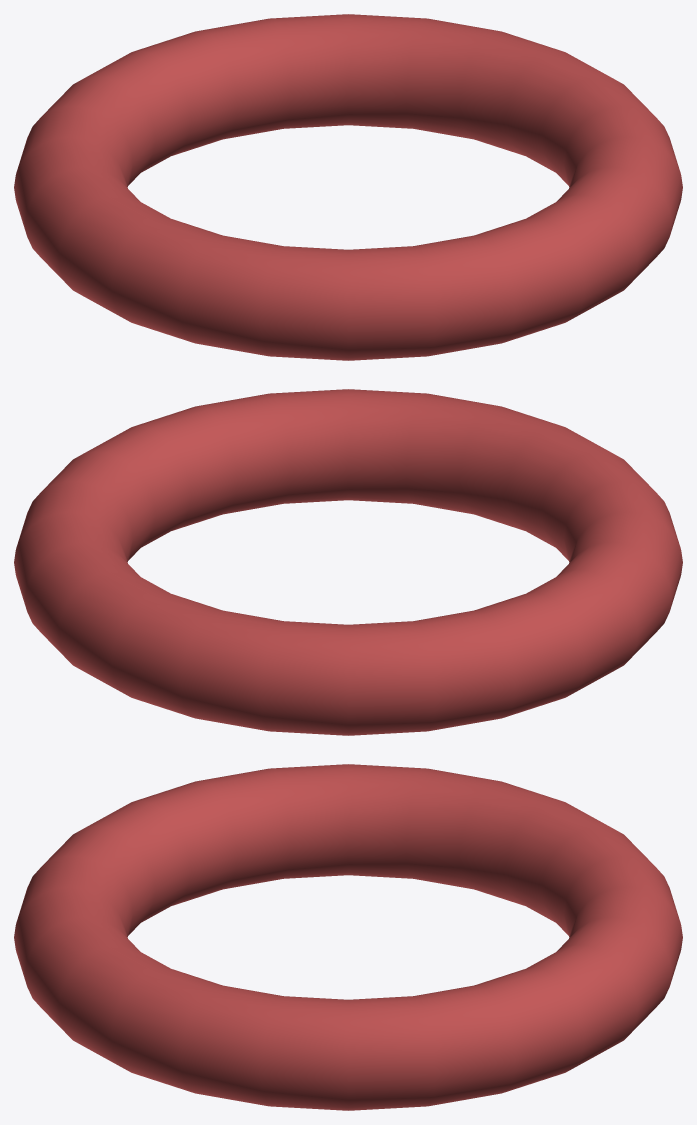
3 views of the same model, one above another, from view 1: azimuth 30°, elevation 25°; view 2: azimuth 150°, elevation 25°; view 3: azimuth 270°, elevation 25° (orthographic).
Parts seen in each view (by area): view 1: Torus1; view 2: Torus1; view 3: Torus1.
Part boxes in pixels (<box>): Torus1: <box>14,14,682,360</box>; Torus1: <box>14,389,682,735</box>; Torus1: <box>14,764,682,1110</box>.
Size of the model in its own units: 2.4 by 0.4 by 2.4.
